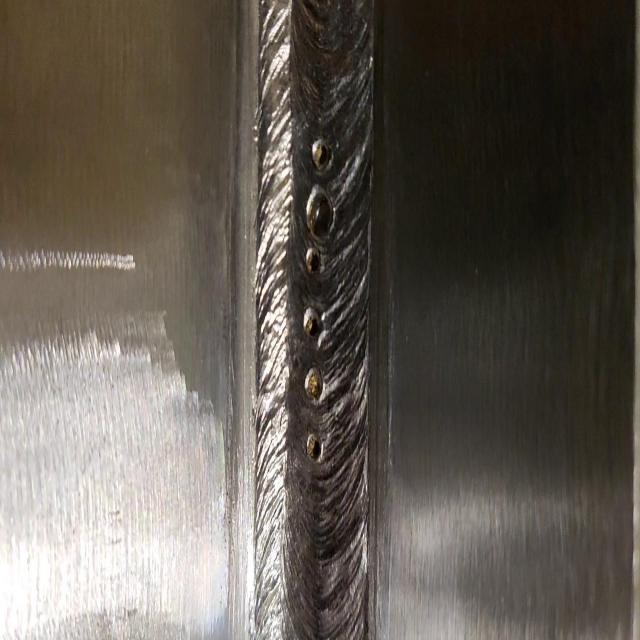Welding Line: (258, 10, 375, 640)
porosity: (305, 137, 337, 467)
